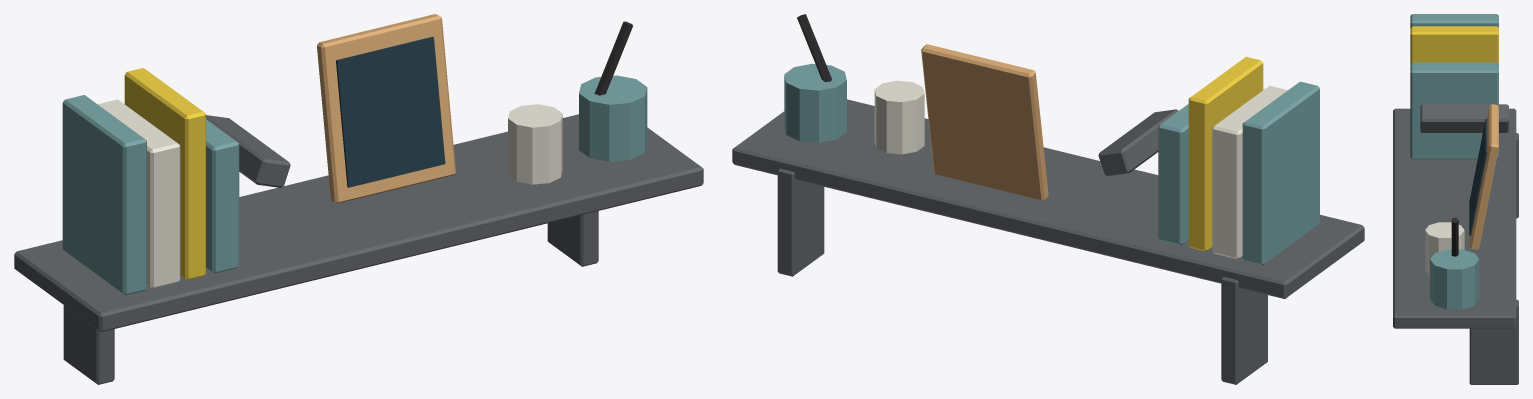
The model's file is personal_shelf.glb.
3 views of the same model, side by side, from view 1: azimuth 30°, elevation 25°; view 2: azimuth 150°, elevation 25°; view 3: azimuth 270°, elevation 25° (orthographic). The views are drawn at different scales.
Parts seen in each view (by area): view 1: personal_shelf; view 2: personal_shelf; view 3: personal_shelf.
Part boxes in pixels (x1,y1,x2,y2): personal_shelf: (14, 14, 703, 384); personal_shelf: (732, 14, 1364, 384); personal_shelf: (1393, 14, 1518, 384).
Bounding box in the file's own units: 1 × 0.455 × 0.255.
